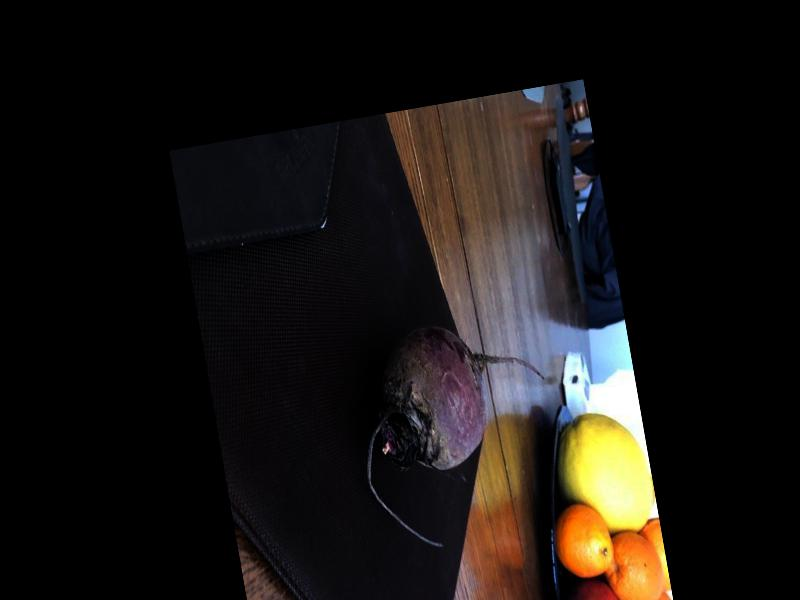Beet: (343, 307, 570, 557)
